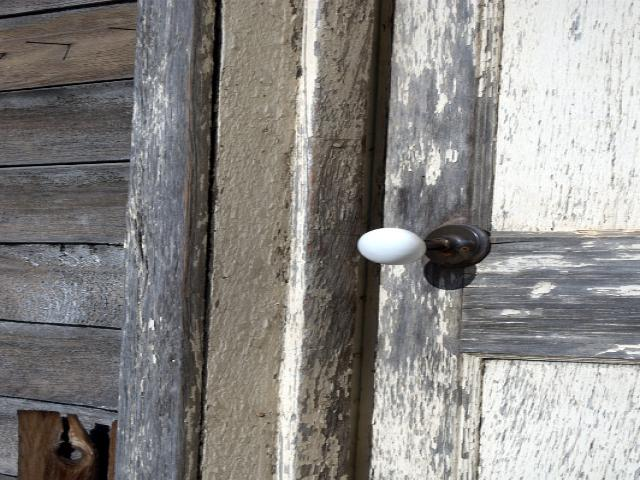Door-handle: (350, 224, 500, 272)
